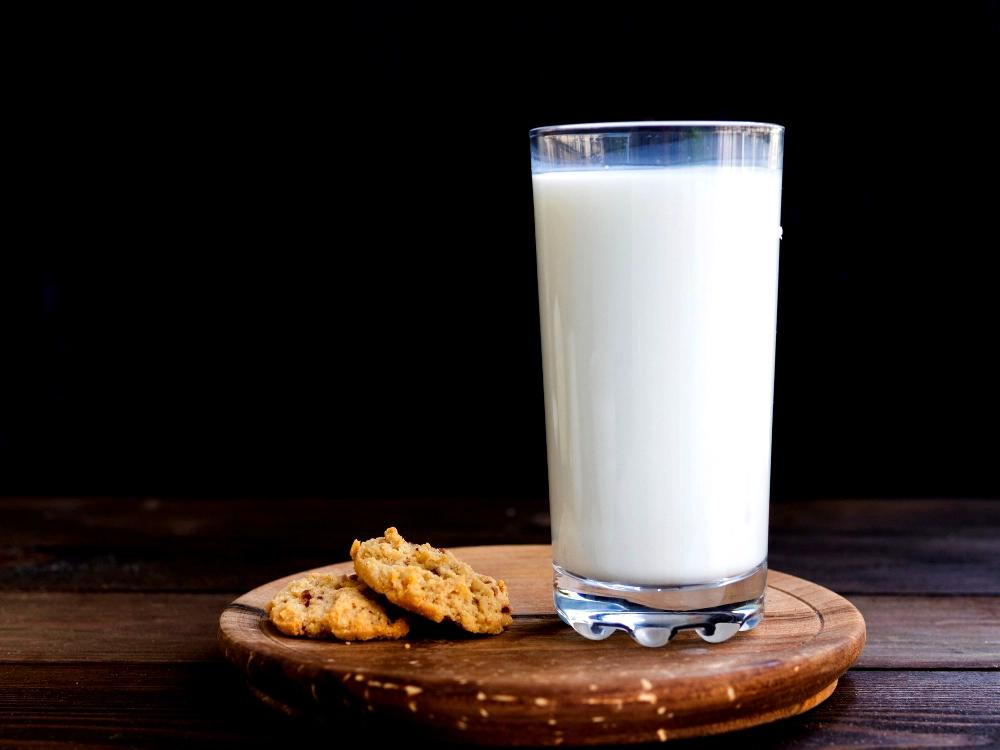produk_susu: (570, 131, 767, 618)
